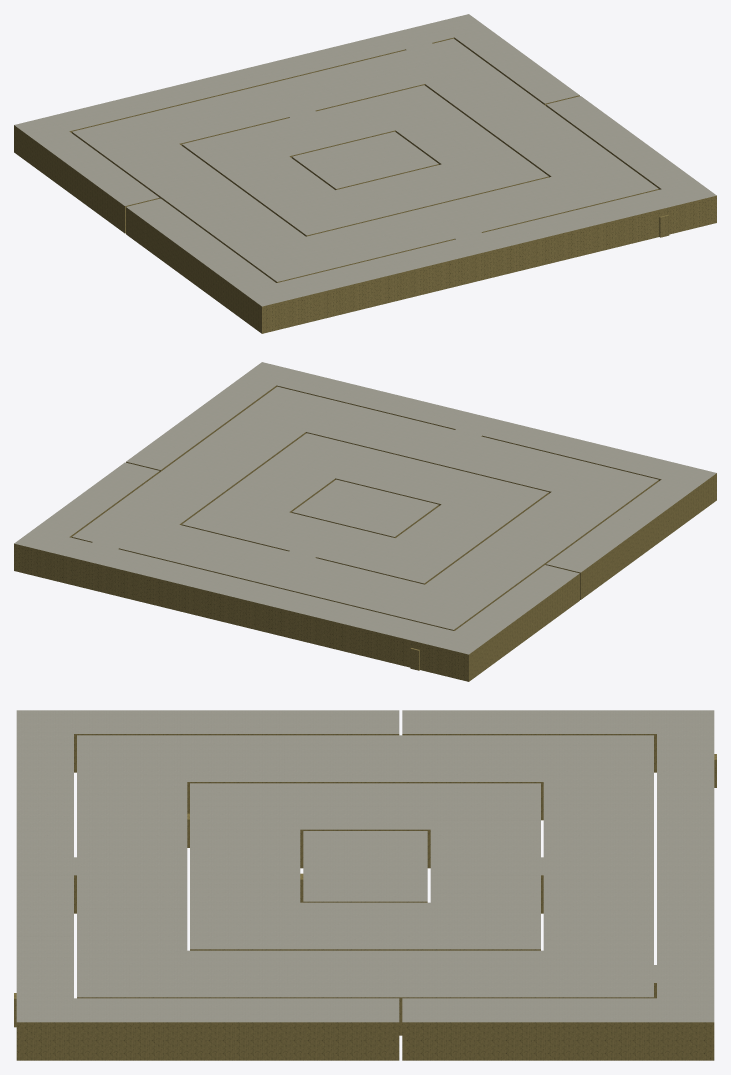
Rendered from gbi_L2_3.glb.
The picture shows the model from 3 angles, top to bottom: view 1: azimuth 30°, elevation 25°; view 2: azimuth 150°, elevation 25°; view 3: azimuth 270°, elevation 25°; orthographic projection. The views are drawn at different scales.
Visible parts, largest first — view 1: M_D_ceil_L2, M_D_wall_L2; view 2: M_D_ceil_L2, M_D_wall_L2; view 3: M_D_ceil_L2, M_D_wall_L2.
Part boxes in pixels (x1,y1,x2,y2): M_D_ceil_L2: [14, 14, 716, 306]; M_D_wall_L2: [14, 37, 716, 333]; M_D_ceil_L2: [14, 362, 716, 654]; M_D_wall_L2: [14, 385, 716, 681]; M_D_ceil_L2: [16, 710, 714, 1022]; M_D_wall_L2: [14, 734, 716, 1060].
Size of the model in its own units: 52.2 by 3 by 49.7.
Materials: 15 (6 with a texture image).
